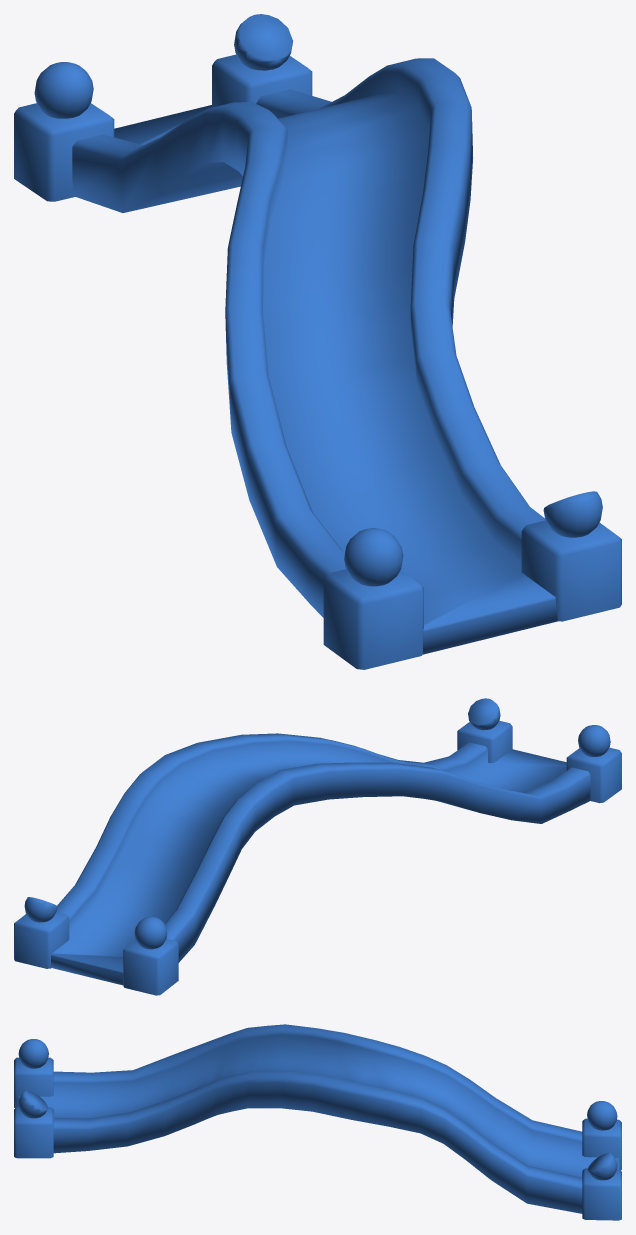
The model's file is bridge_top_01.fbx.
3 renders of one model, top to bottom at view 1: azimuth 30°, elevation 25°; view 2: azimuth 150°, elevation 25°; view 3: azimuth 270°, elevation 25°, orthographic. The views are drawn at different scales.
Parts seen in each view (by area): view 1: bridge_01; view 2: bridge_01; view 3: bridge_01.
Part boxes in pixels (bbox=[...]): bridge_01: bbox=[14, 14, 621, 669]; bridge_01: bbox=[14, 698, 621, 995]; bridge_01: bbox=[14, 1024, 621, 1220].
Size of the model in its own units: 3003 by 1257 by 6045.
